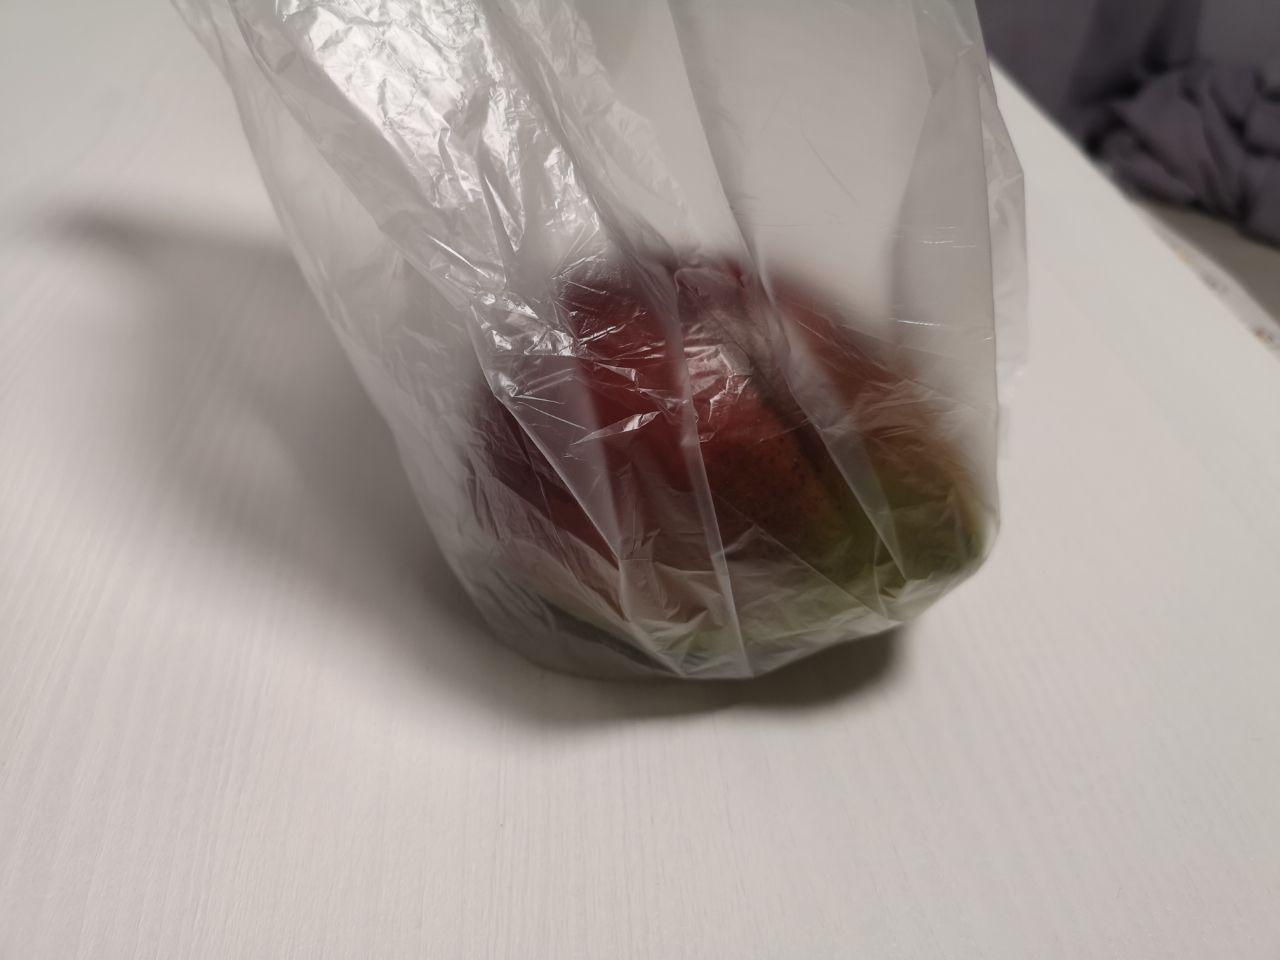mango: (332, 137, 1126, 793)
